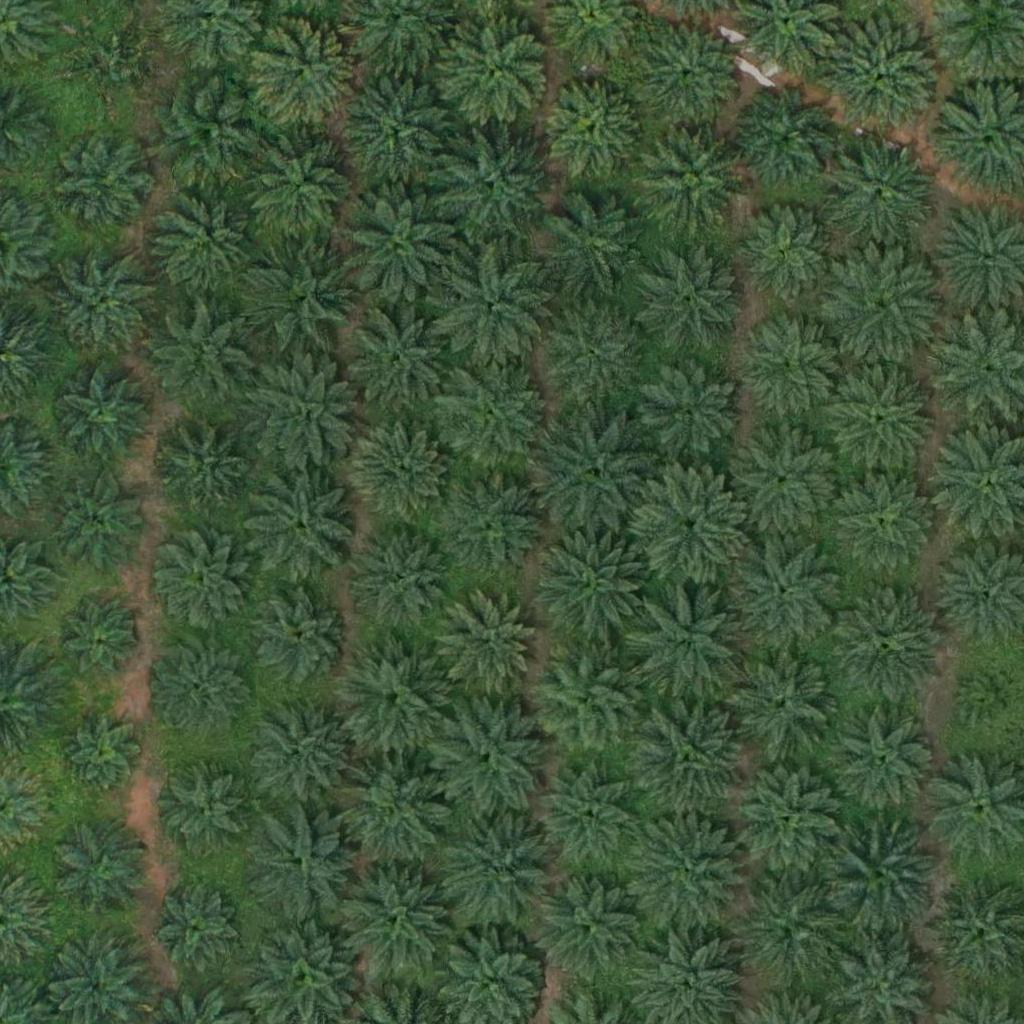Kelapa_Sawit: (438, 14, 551, 128), (539, 186, 652, 300), (528, 642, 641, 756), (633, 700, 746, 814), (633, 818, 746, 932), (732, 874, 845, 988), (151, 81, 264, 194), (826, 20, 939, 133), (823, 136, 936, 249), (828, 250, 941, 363), (635, 469, 748, 582), (632, 581, 745, 694), (536, 299, 649, 412), (541, 418, 654, 531), (534, 530, 647, 643), (436, 130, 549, 243), (438, 252, 551, 365), (243, 354, 356, 467), (243, 470, 356, 583), (241, 582, 354, 695), (242, 695, 355, 808), (248, 808, 361, 921), (338, 863, 451, 976), (633, 121, 745, 235), (829, 364, 941, 478), (632, 245, 744, 359), (734, 764, 846, 878), (249, 17, 361, 130), (346, 70, 458, 183), (631, 19, 743, 132), (831, 590, 943, 703), (730, 427, 842, 540), (734, 537, 846, 650), (439, 358, 551, 471), (437, 471, 549, 584), (344, 189, 456, 302), (341, 300, 453, 413), (244, 133, 356, 246), (247, 248, 359, 361), (49, 248, 161, 361), (334, 641, 446, 754), (337, 757, 449, 870), (436, 701, 548, 814), (442, 813, 554, 926), (535, 868, 647, 981), (728, 646, 840, 759), (826, 822, 938, 935), (734, 87, 834, 188), (440, 590, 540, 691), (348, 422, 448, 523), (353, 528, 453, 629), (151, 192, 251, 293), (148, 305, 248, 406), (150, 418, 250, 519), (58, 131, 158, 232), (51, 365, 151, 466), (53, 814, 153, 915), (154, 764, 254, 865), (836, 711, 936, 812), (544, 79, 644, 179), (834, 474, 934, 574), (735, 206, 835, 306), (740, 320, 840, 420), (643, 364, 743, 464), (151, 534, 251, 634), (151, 638, 251, 738), (49, 470, 149, 570), (539, 769, 639, 869), (61, 707, 149, 795), (151, 883, 239, 971), (74, 23, 161, 112), (61, 602, 136, 678)
